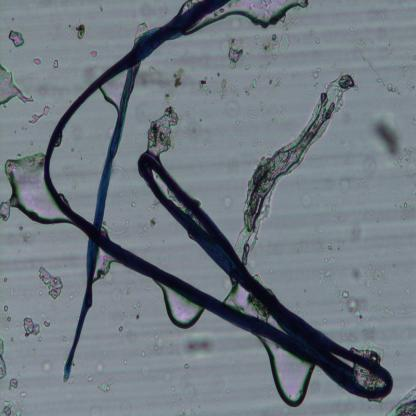Air bubble: (1, 150, 64, 230), (253, 338, 320, 413), (205, 0, 312, 27), (155, 283, 204, 333), (0, 63, 34, 107)
Background material: (320, 259, 384, 342), (364, 106, 410, 170), (240, 30, 290, 76), (144, 109, 178, 157), (176, 331, 215, 362), (196, 73, 230, 100), (222, 30, 244, 70), (119, 296, 141, 336), (40, 267, 62, 303), (379, 72, 406, 96), (19, 316, 52, 334), (31, 103, 52, 127), (0, 398, 27, 414), (243, 77, 262, 98), (70, 20, 87, 41), (7, 29, 25, 48), (0, 339, 8, 381), (171, 66, 186, 86), (10, 373, 20, 394), (98, 378, 113, 392), (143, 215, 155, 231), (310, 65, 322, 79), (33, 54, 43, 68), (50, 58, 60, 70), (89, 49, 99, 58), (316, 36, 322, 45)
Cellulose filter fibre: (236, 72, 356, 262), (383, 386, 416, 416)
Cotton: (42, 0, 394, 402)
Glass filter fibre: (106, 163, 135, 234)
